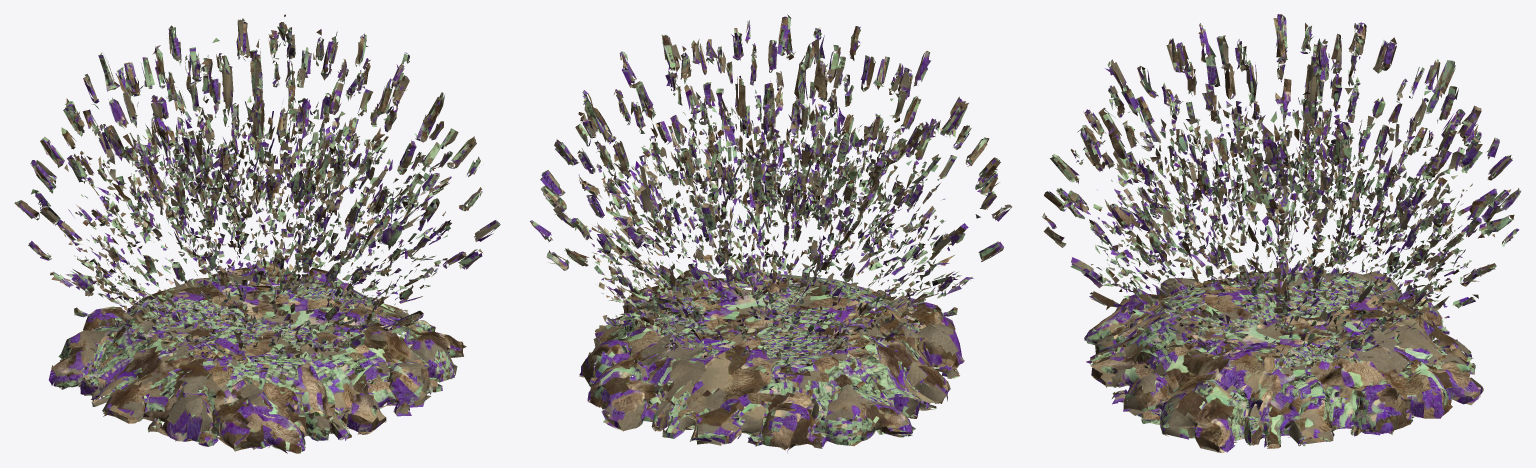
The model's file is veg_shrub_lavender_01.obj.
The picture shows the model from 3 angles, left to right: view 1: azimuth 30°, elevation 25°; view 2: azimuth 150°, elevation 25°; view 3: azimuth 270°, elevation 25°; orthographic projection.
Visible parts, largest first — view 1: veg_shrub_lavender_01; view 2: veg_shrub_lavender_01; view 3: veg_shrub_lavender_01.
Part boxes in pixels (x1,y1,x2,y2): veg_shrub_lavender_01: (14, 14, 500, 453); veg_shrub_lavender_01: (530, 14, 1011, 452); veg_shrub_lavender_01: (1042, 14, 1521, 453).
Size of the model in its own units: 0.7045 by 0.5367 by 0.7.
Materials: 1 (1 with a texture image).
